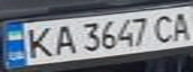3: (78, 19, 103, 53)
4: (115, 16, 139, 48)
6: (100, 17, 121, 51)
7: (130, 14, 154, 47)
A: (48, 21, 78, 56), (169, 9, 193, 42)
C: (151, 11, 178, 44)
K: (18, 24, 57, 60)
